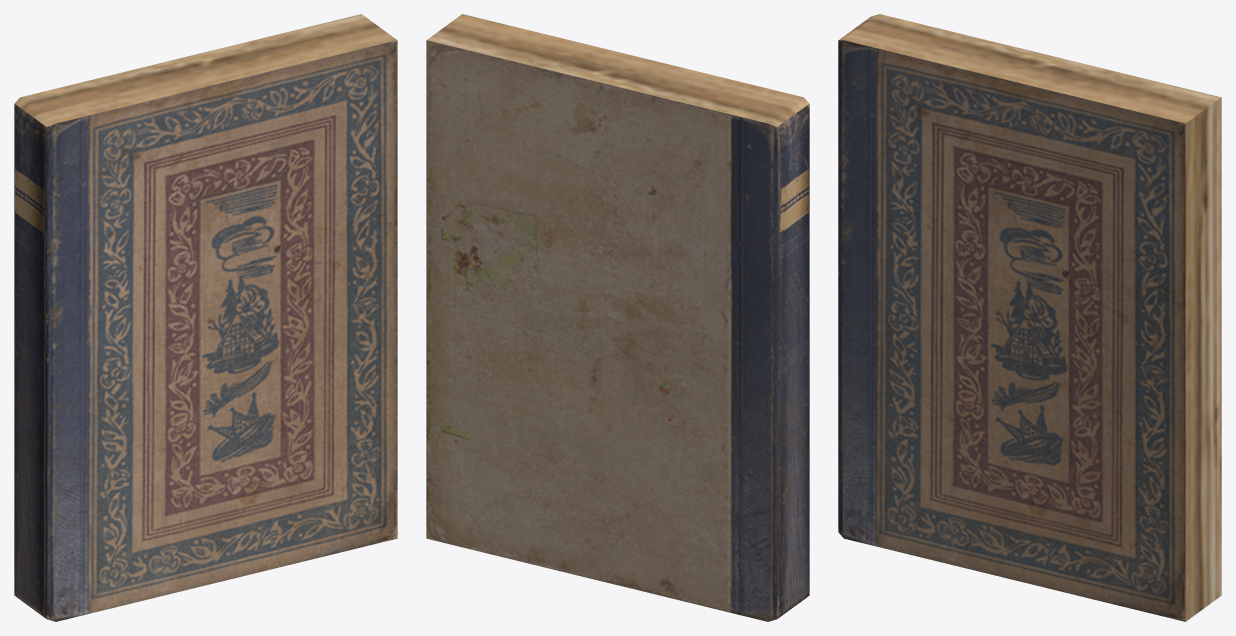
Rendered from SM_Book_01.fbx.
3 views of the same model, side by side, from view 1: azimuth 30°, elevation 25°; view 2: azimuth 150°, elevation 25°; view 3: azimuth 330°, elevation 25° (orthographic).
Parts seen in each view (by area): view 1: SM_Book_01; view 2: SM_Book_01; view 3: SM_Book_01.
Boxes of the visible parts, bbox=[...] form: SM_Book_01: bbox=[14, 14, 397, 621]; SM_Book_01: bbox=[426, 14, 809, 621]; SM_Book_01: bbox=[838, 14, 1221, 621].
Size of the model in its own units: 17 by 23 by 3.
Materials: 1 (1 with a texture image).
